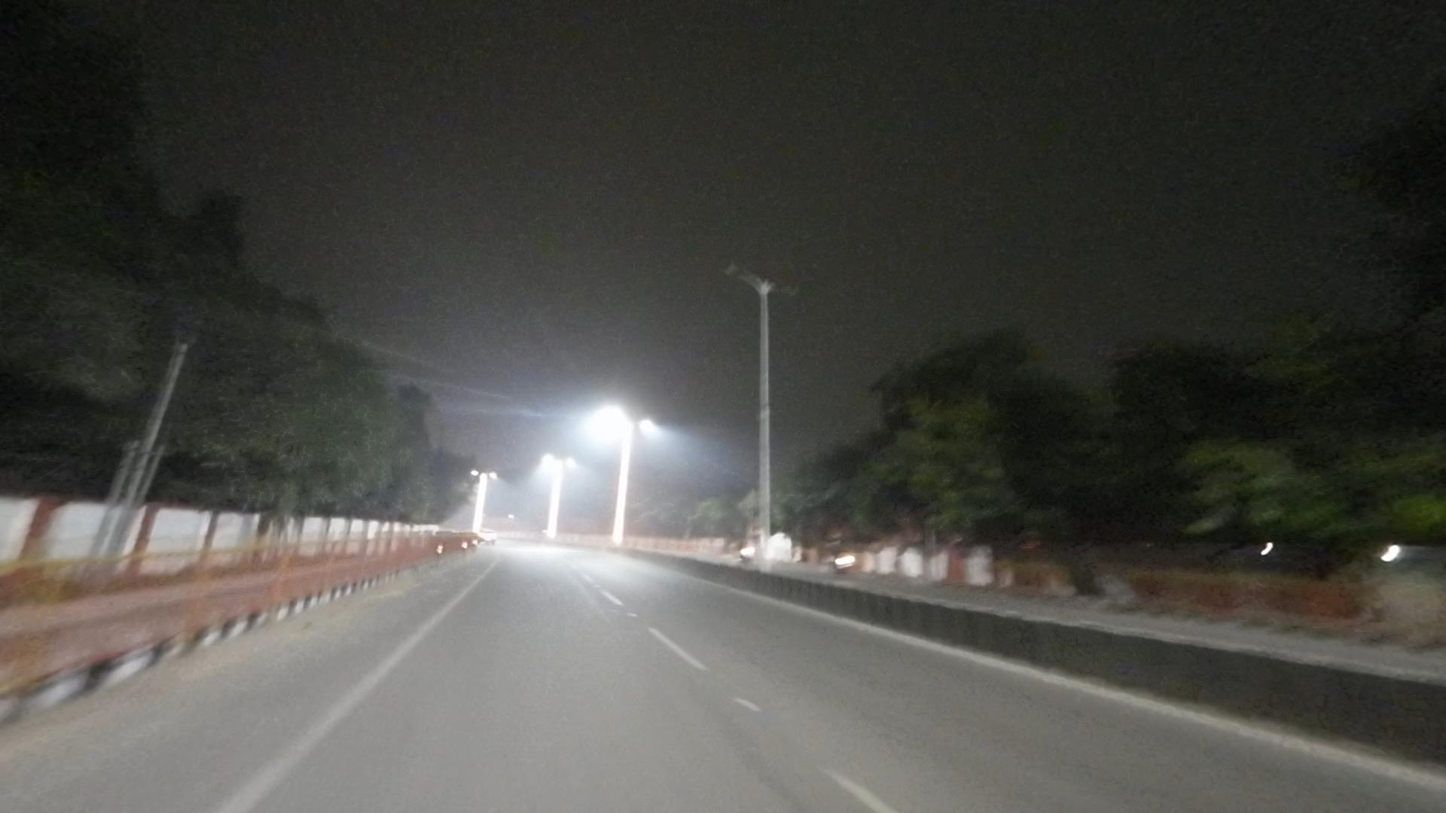streetlight: (716, 253, 760, 286), (771, 277, 802, 298)
